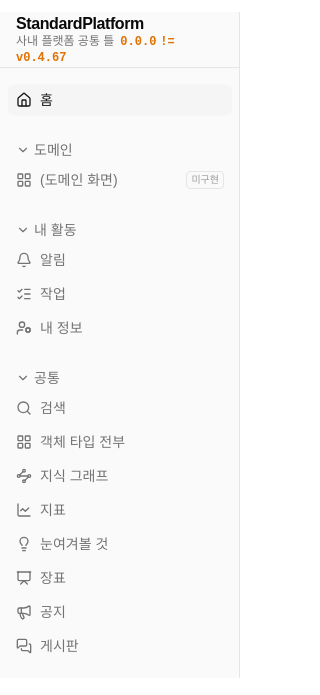
Scenario: 사이드바 묶음 접기 › 제목을 누르면 접히고 다시 누르면 펴진다 — 기억한다
The image size is (320, 695).
Expected: the link "작업" is shown, [16, 286, 66, 302]
Click the button "내 활동" at (120, 230), box [8, 216, 232, 244]
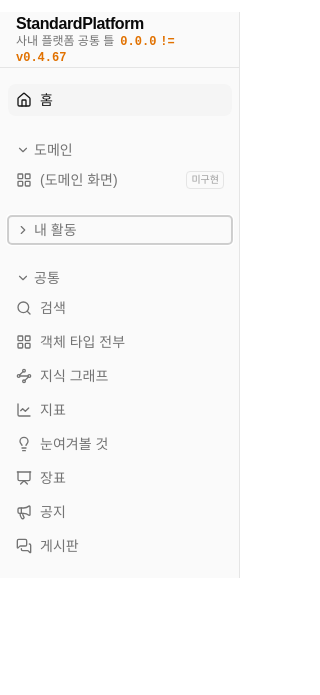
Result: the button "내 활동" is collapsed
Result: the link "작업" is gone
Click the button "내 활동" at (120, 230), box [8, 216, 232, 244]
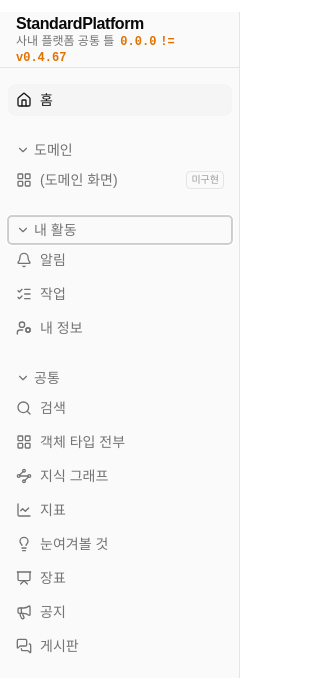
Result: the button "내 활동" is expanded at [8, 216, 232, 244]
